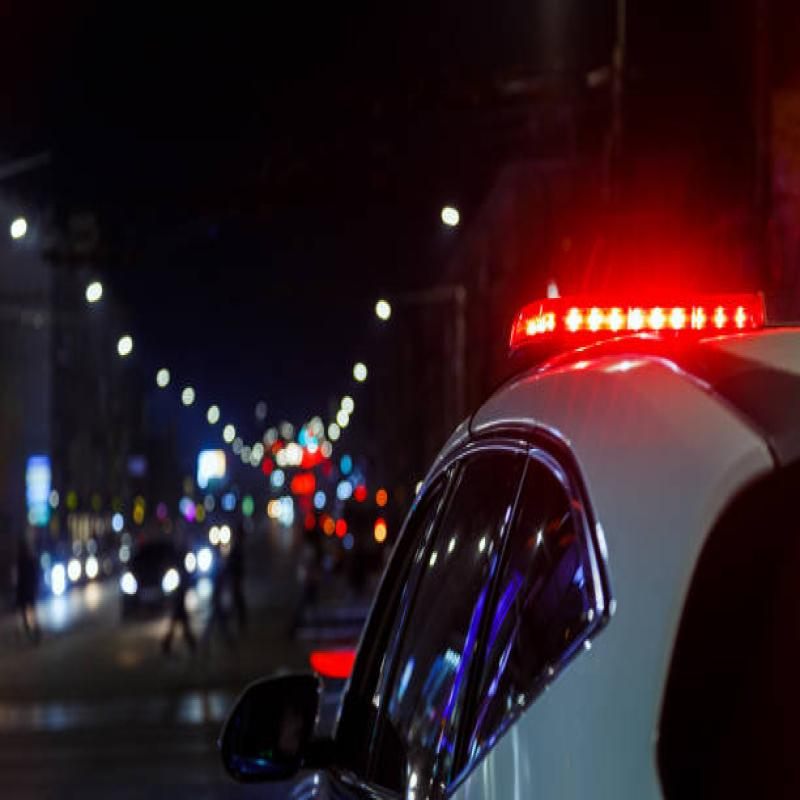AmbulanceSiren: (507, 269, 770, 365)
